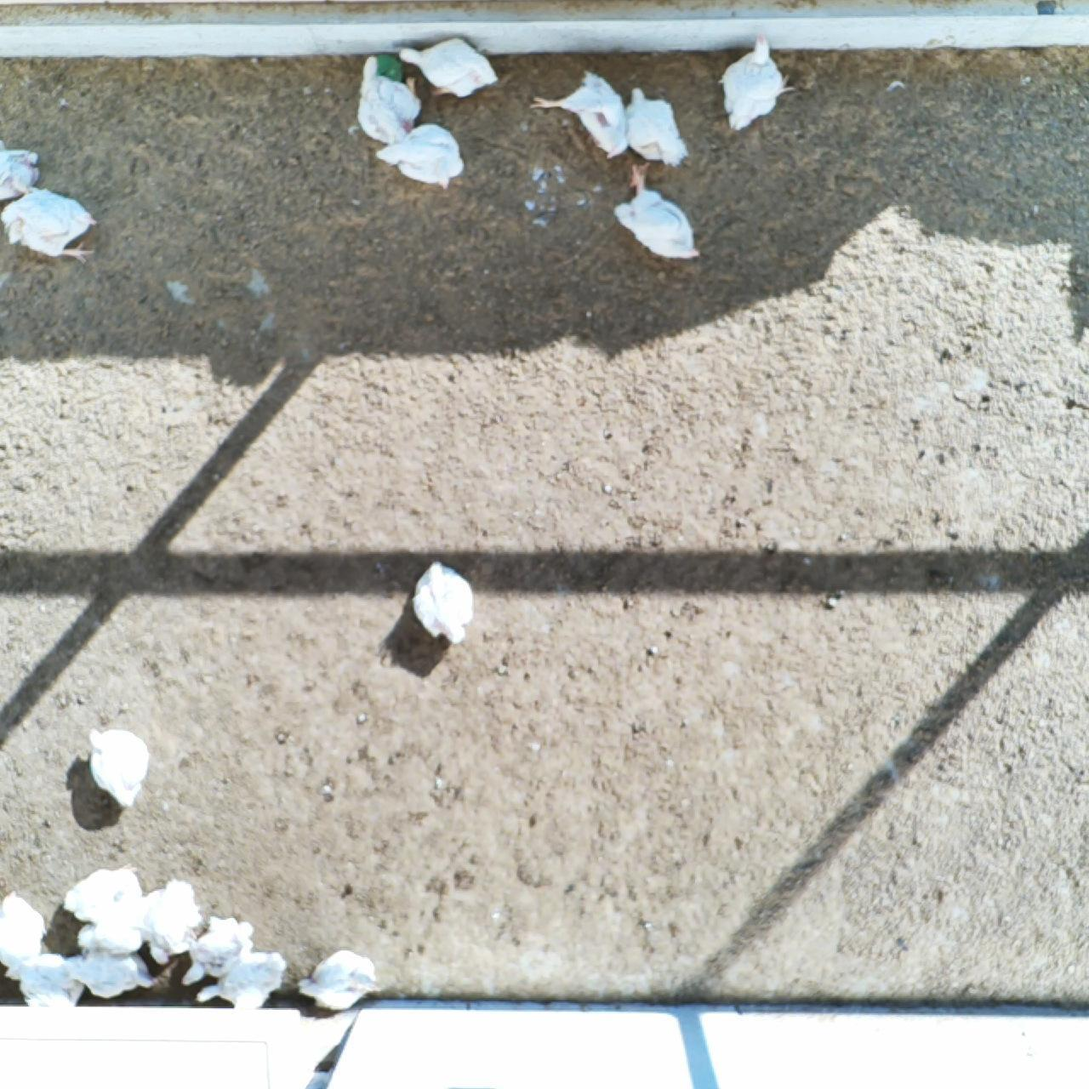chicken: (529, 70, 628, 160), (614, 160, 701, 261), (3, 187, 99, 263), (720, 34, 795, 130), (397, 37, 499, 100), (373, 123, 464, 189), (358, 56, 421, 145), (298, 950, 382, 1015), (182, 915, 258, 986), (140, 879, 202, 966), (412, 560, 475, 644), (197, 953, 286, 1011), (626, 87, 689, 167), (88, 730, 150, 807), (65, 863, 142, 924), (3, 955, 85, 1006), (1, 891, 46, 982), (67, 953, 154, 999), (77, 906, 148, 956), (1, 140, 41, 202)
